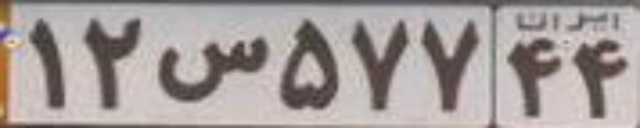1: (25, 17, 65, 109)
2: (82, 14, 147, 109)
4: (503, 36, 561, 118), (571, 37, 628, 120)
5: (280, 17, 337, 111)
7: (418, 15, 485, 112), (349, 16, 411, 110)
sin: (157, 33, 269, 102)
